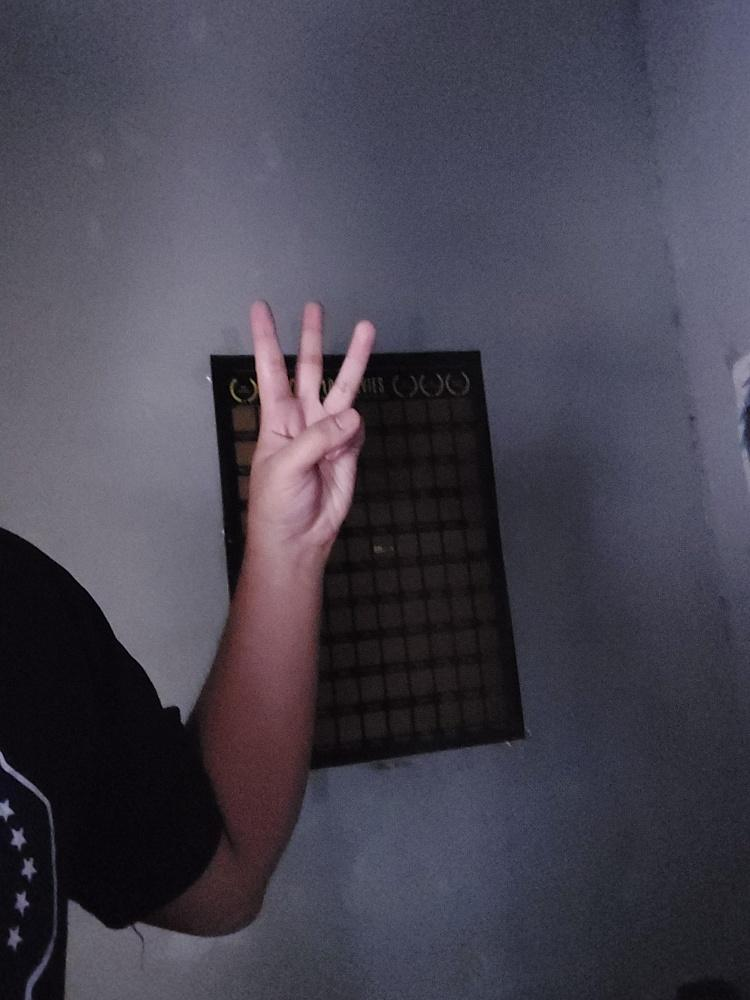w: (244, 296, 375, 554)
